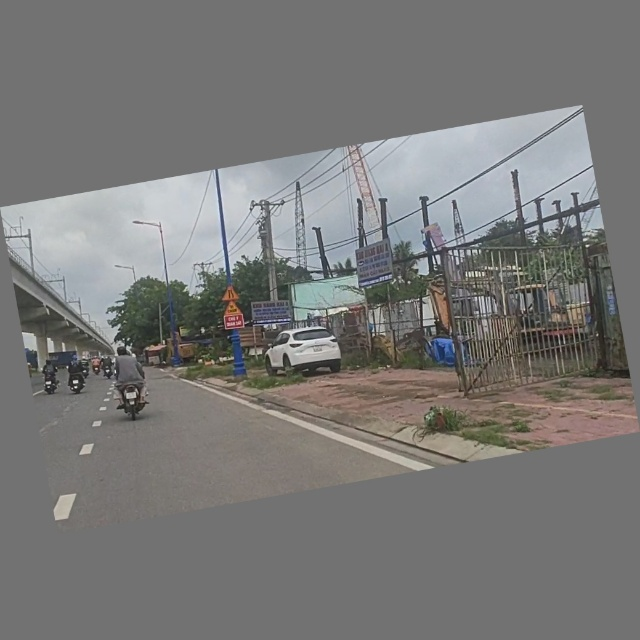W.203c: (220, 284, 241, 302)
W.245a: (222, 299, 244, 318)
